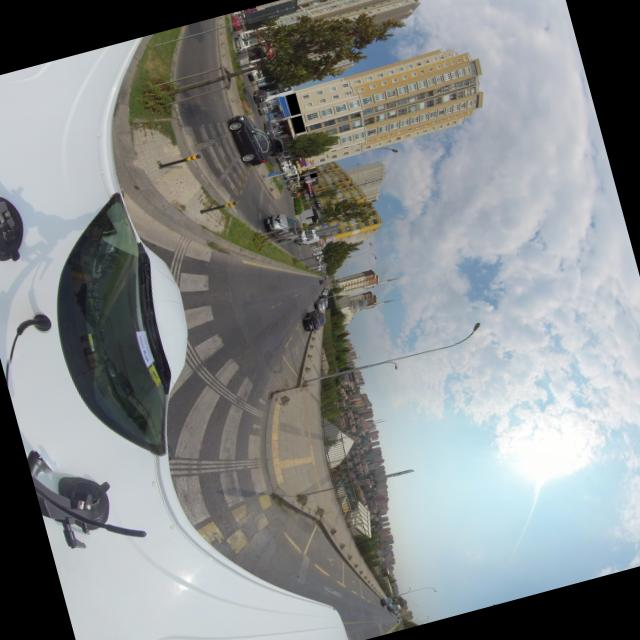SignStore: (284, 93, 300, 116), (290, 115, 304, 134), (309, 172, 316, 178)
